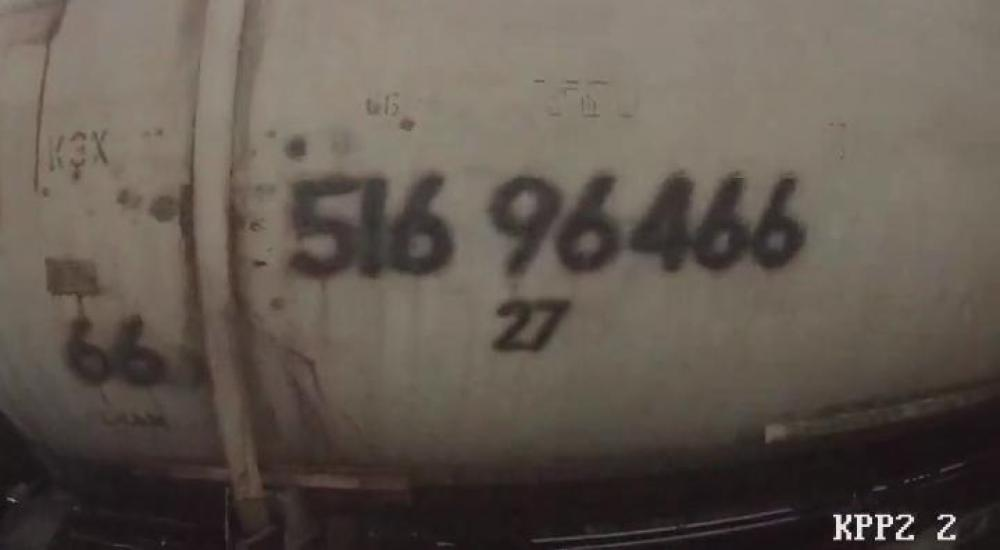Wagon-number: (282, 163, 811, 284)
